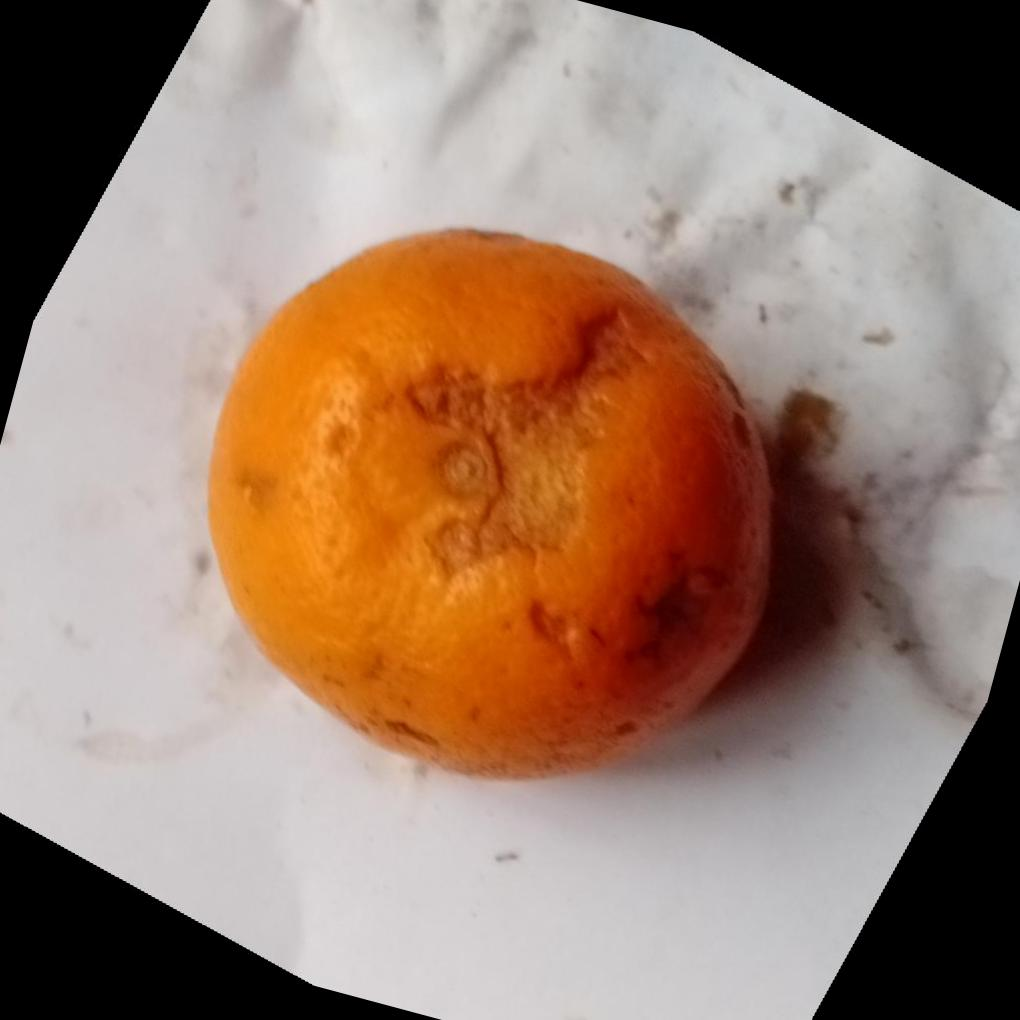FreshOrange: (199, 228, 776, 785)
